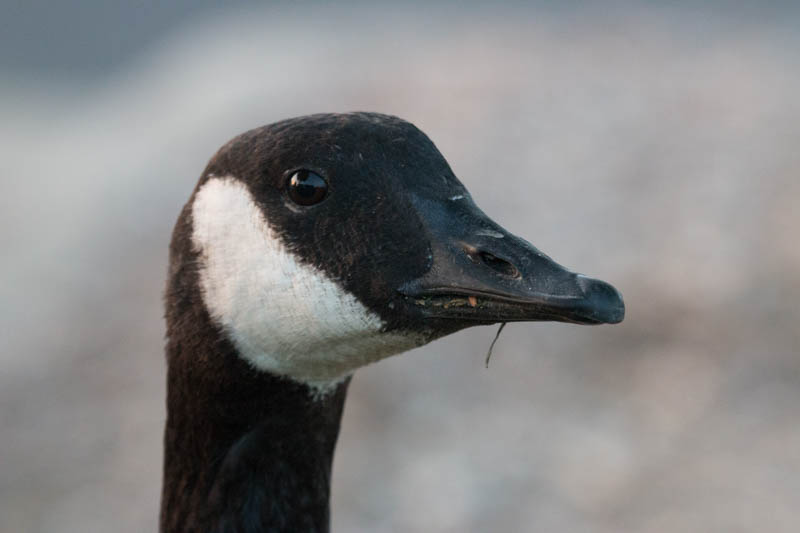goose-head: (164, 111, 625, 391)
